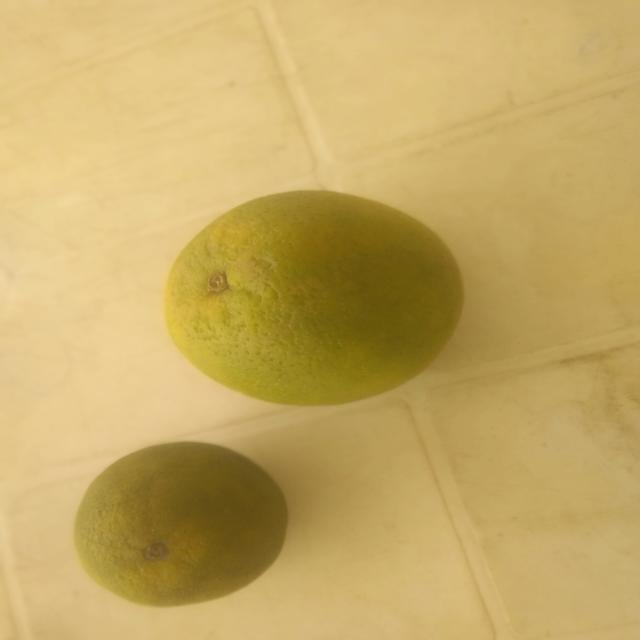Unripe: (165, 172, 476, 418), (63, 435, 316, 604)
